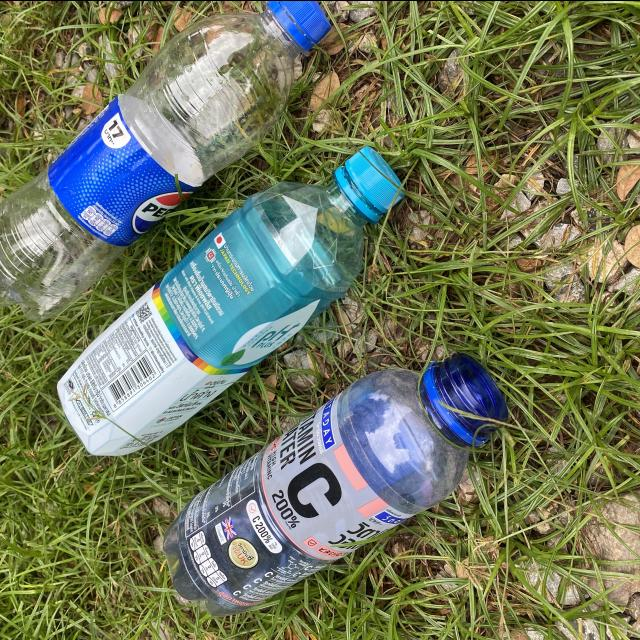plastik: (57, 146, 403, 455), (0, 0, 330, 319), (163, 353, 507, 615)
